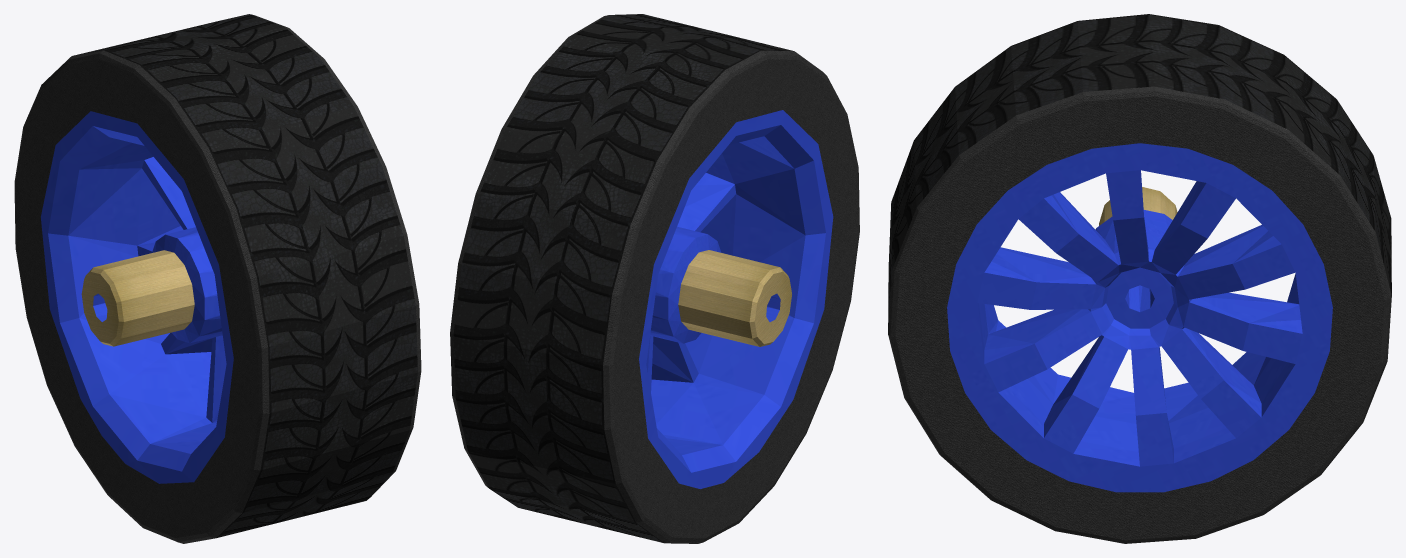
The model's file is wheel_motor_rotor.dae.
3 views of the same model, side by side, from view 1: azimuth 30°, elevation 25°; view 2: azimuth 150°, elevation 25°; view 3: azimuth 270°, elevation 25° (orthographic).
Parts seen in each view (by area): view 1: Wheel Motor Rotot; view 2: Wheel Motor Rotot; view 3: Wheel Motor Rotot.
Part boxes in pixels (bbox=[...]): Wheel Motor Rotot: bbox=[14, 14, 421, 543]; Wheel Motor Rotot: bbox=[450, 14, 859, 543]; Wheel Motor Rotot: bbox=[888, 14, 1391, 543].
Bounding box in the file's own units: 0.0307 × 0.0678 × 0.068.
Materials: 4 (4 with a texture image).
